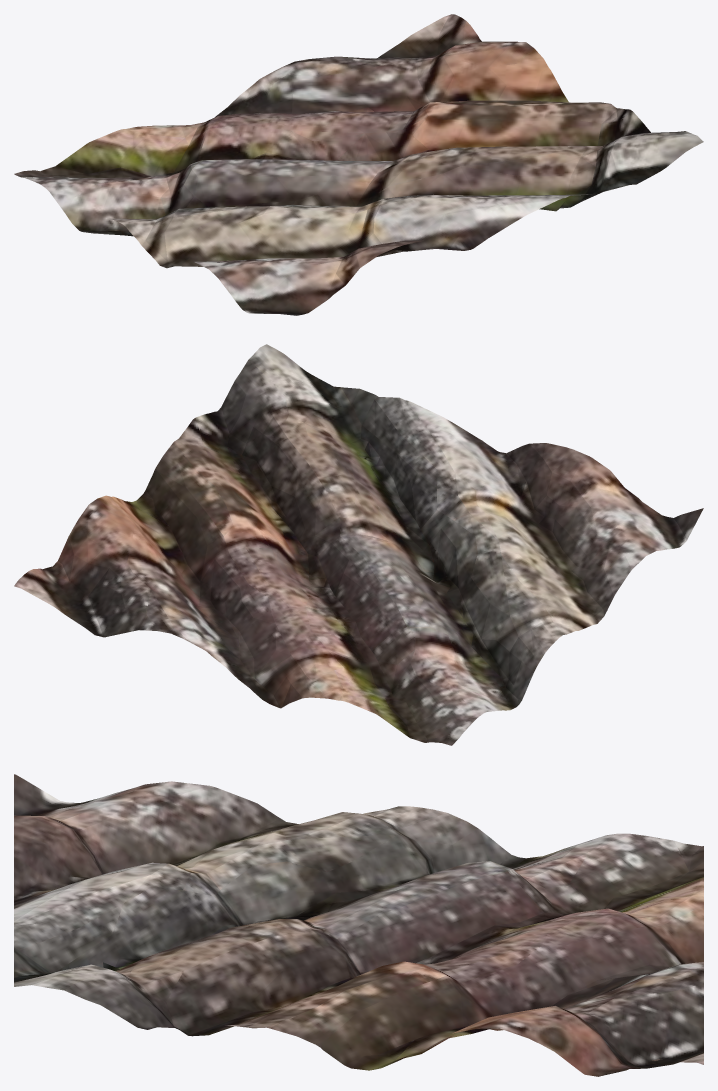
3 views of the same model, one above another, from view 1: azimuth 30°, elevation 25°; view 2: azimuth 150°, elevation 25°; view 3: azimuth 270°, elevation 25° (orthographic). The views are drawn at different scales.
Size of the model in its own units: 0.8374 by 0.2215 by 0.8374.
Materials: 3 (3 with a texture image).
